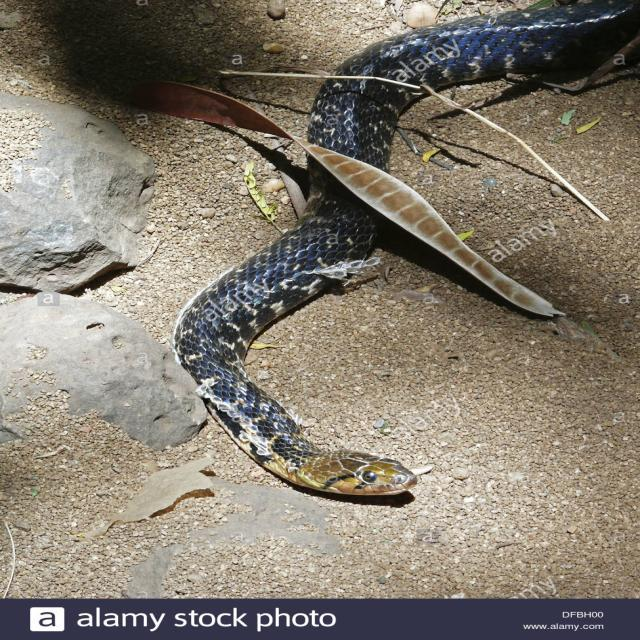Snake: (159, 0, 638, 497)
